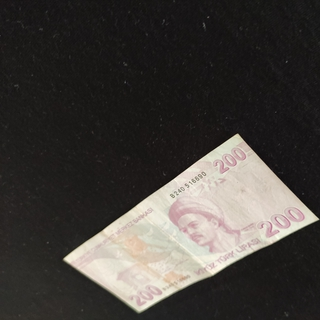200TLBack: (62, 132, 320, 313)
